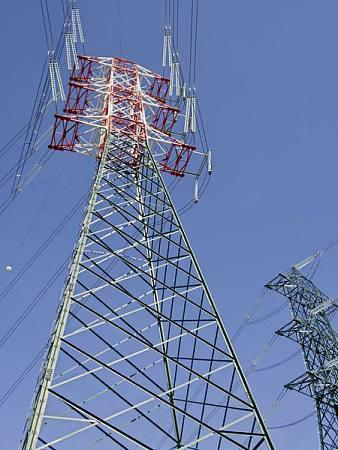power_tower: (0, 23, 272, 450), (260, 237, 338, 450)
